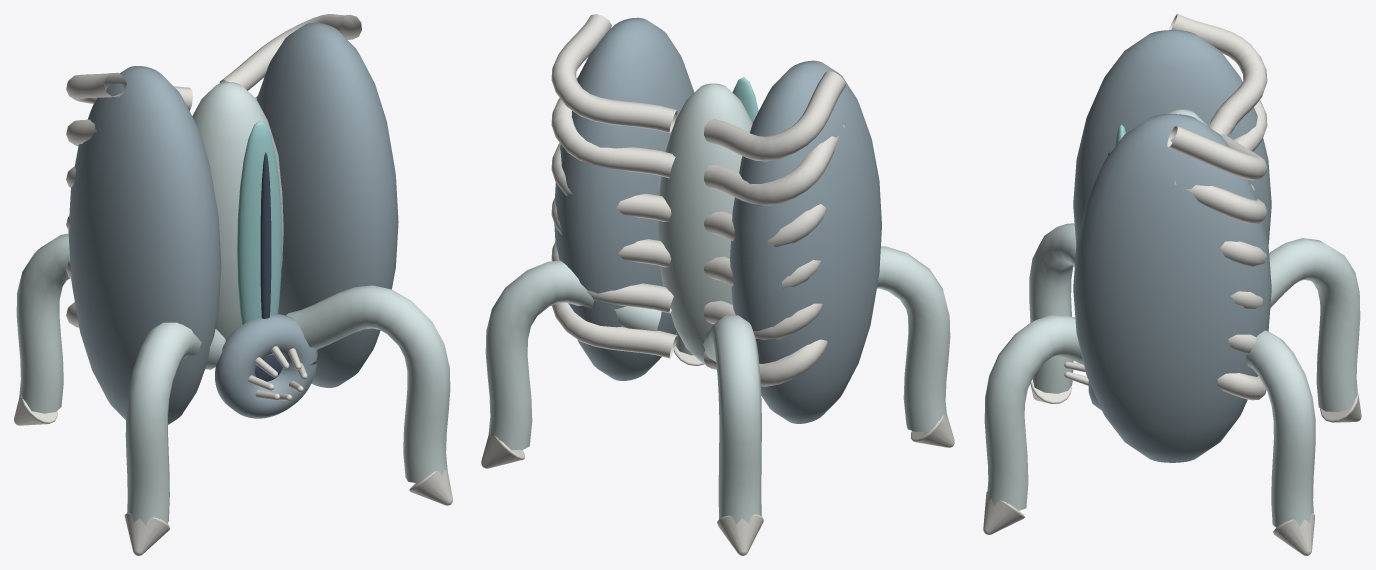
The model's file is bio_window_sac_04_near.glb.
3 renders of one model, left to right at view 1: azimuth 30°, elevation 25°; view 2: azimuth 150°, elevation 25°; view 3: azimuth 270°, elevation 25°, orthographic. The views are drawn at different scales.
Parts seen in each view (by area): view 1: Separated curved shell, Crooked support.003, Crooked support.002, Internal receptor sac, Crooked support.001, Raised oral lip, Single vertical photoreceptor, Shell window buttress, Long internal pupil, Inward tooth, Contact spur.002, Contact spur.003 (+1 smaller); view 2: Separated curved shell, Shell window buttress, Internal receptor sac, Crooked support, Crooked support.001, Crooked support.002, Contact spur.001, Contact spur, Contact spur.002, Single vertical photoreceptor; view 3: Separated curved shell, Shell window buttress, Crooked support.003, Crooked support.001, Crooked support, Crooked support.002, Contact spur, Contact spur.003, Contact spur.001.
Boxes of the visible parts, x1=… form: Separated curved shell: x1=68, y1=22, x2=398, y2=424; Crooked support.003: x1=286, y1=285, x2=450, y2=483; Crooked support.002: x1=125, y1=322, x2=225, y2=525; Internal receptor sac: x1=192, y1=82, x2=283, y2=340; Crooked support.001: x1=16, y1=233, x2=69, y2=413; Raised oral lip: x1=215, y1=314, x2=317, y2=418; Single vertical photoreceptor: x1=237, y1=120, x2=281, y2=324; Shell window buttress: x1=66, y1=14, x2=361, y2=327; Long internal pupil: x1=260, y1=152, x2=271, y2=318; Inward tooth: x1=248, y1=346, x2=307, y2=401; Contact spur.002: x1=124, y1=512, x2=169, y2=555; Contact spur.003: x1=409, y1=468, x2=452, y2=505; Separated curved shell: x1=554, y1=17, x2=881, y2=423; Shell window buttress: x1=551, y1=14, x2=845, y2=386; Internal receptor sac: x1=658, y1=83, x2=752, y2=363; Crooked support: x1=485, y1=260, x2=661, y2=450; Crooked support.001: x1=703, y1=315, x2=761, y2=524; Crooked support.002: x1=877, y1=246, x2=950, y2=431; Contact spur.001: x1=717, y1=514, x2=763, y2=555; Contact spur: x1=481, y1=433, x2=524, y2=468; Contact spur.002: x1=911, y1=415, x2=954, y2=447; Single vertical photoreceptor: x1=732, y1=77, x2=758, y2=122; Separated curved shell: x1=1073, y1=30, x2=1271, y2=462; Shell window buttress: x1=1167, y1=14, x2=1267, y2=400; Crooked support.003: x1=984, y1=315, x2=1083, y2=510; Crooked support.001: x1=1269, y1=238, x2=1360, y2=412; Crooked support: x1=1246, y1=330, x2=1315, y2=527; Crooked support.002: x1=1029, y1=223, x2=1076, y2=393; Contact spur: x1=1273, y1=513, x2=1315, y2=555; Contact spur.003: x1=983, y1=492, x2=1024, y2=534; Contact spur.001: x1=1320, y1=390, x2=1361, y2=422.
Size of the model in its own units: 1.71 by 2.04 by 1.71.
